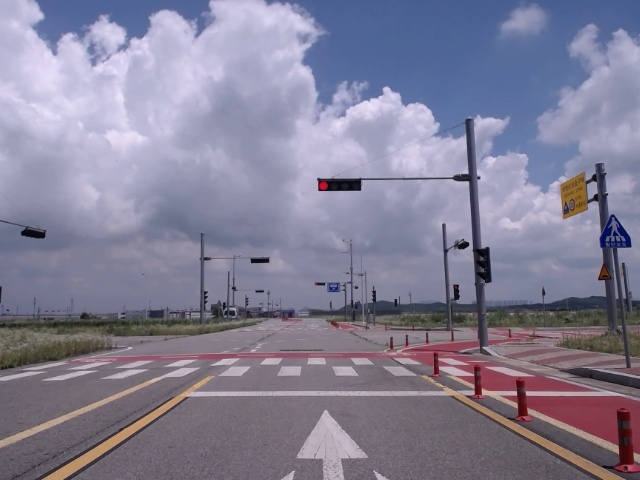red_4: (318, 179, 361, 191)
